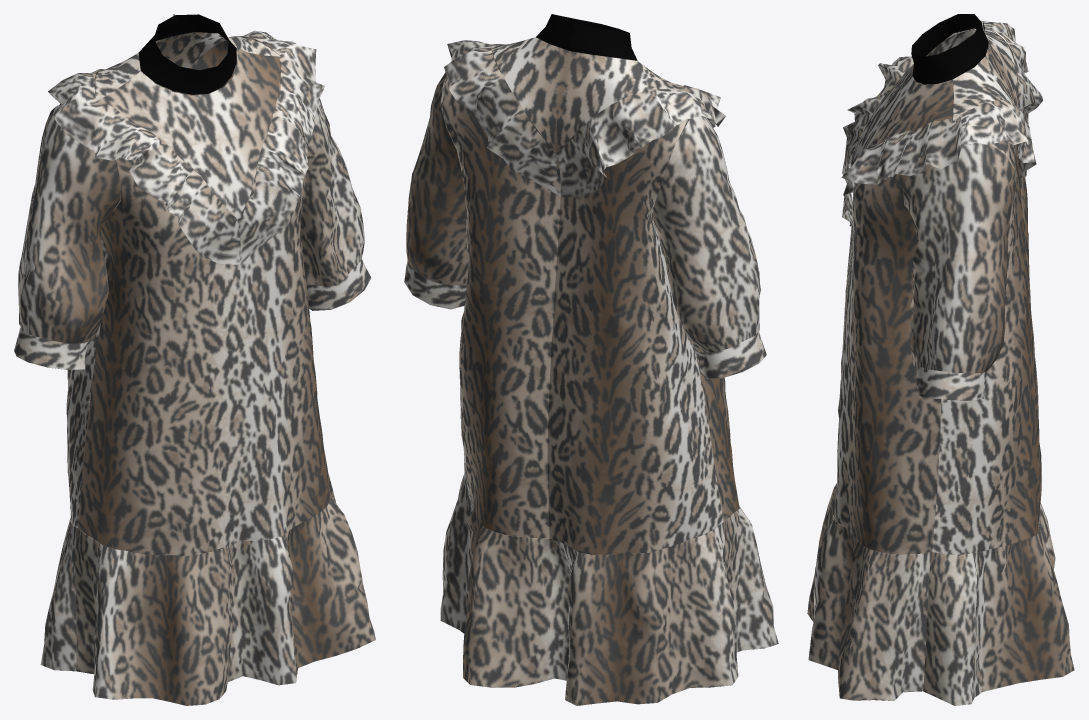
Rendered from northdresslowpoly.fbx.
3 views of the same model, side by side, from view 1: azimuth 30°, elevation 25°; view 2: azimuth 150°, elevation 25°; view 3: azimuth 270°, elevation 25° (orthographic). The views are drawn at different scales.
Visible parts, largest first — view 1: North Dress-_P16; view 2: North Dress-_P16; view 3: North Dress-_P16.
Boxes of the visible parts, bbox=[...] form: North Dress-_P16: bbox=[14, 14, 375, 705]; North Dress-_P16: bbox=[404, 14, 778, 705]; North Dress-_P16: bbox=[807, 14, 1074, 705].
Bounding box in the file's own units: 55.99 × 96.64 × 37.32.
Materials: 47 (47 with a texture image).
